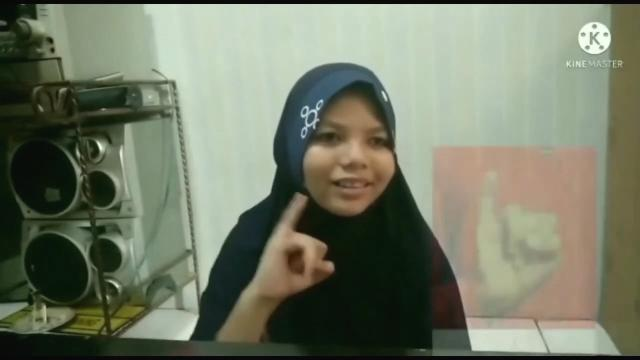I: (254, 195, 336, 301)
